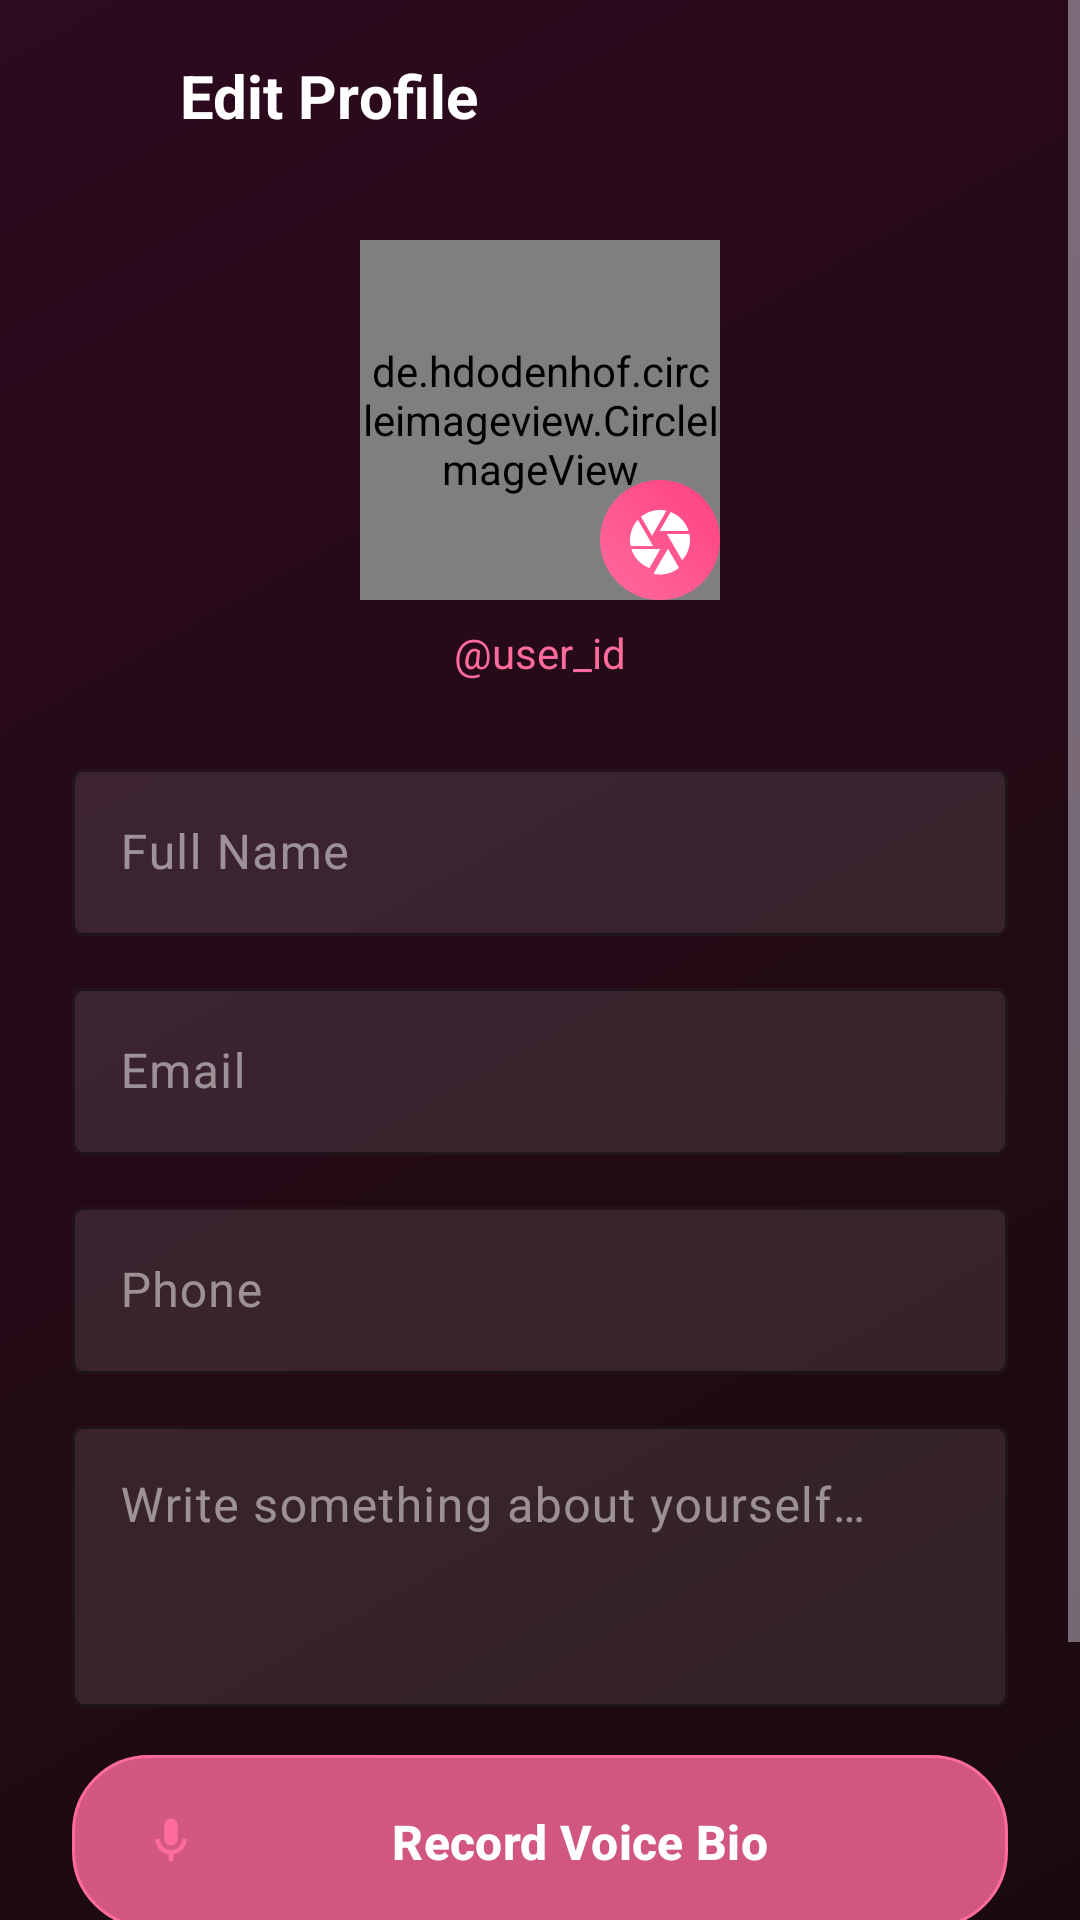

Named icons in this screenshot (1080×1920) and their centers, (x,y):
camera: (660,540)
